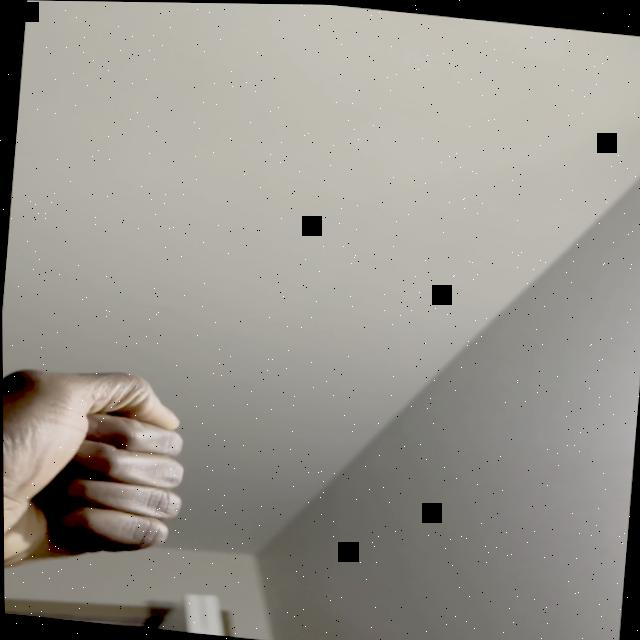Rock: (2, 353, 197, 585)
